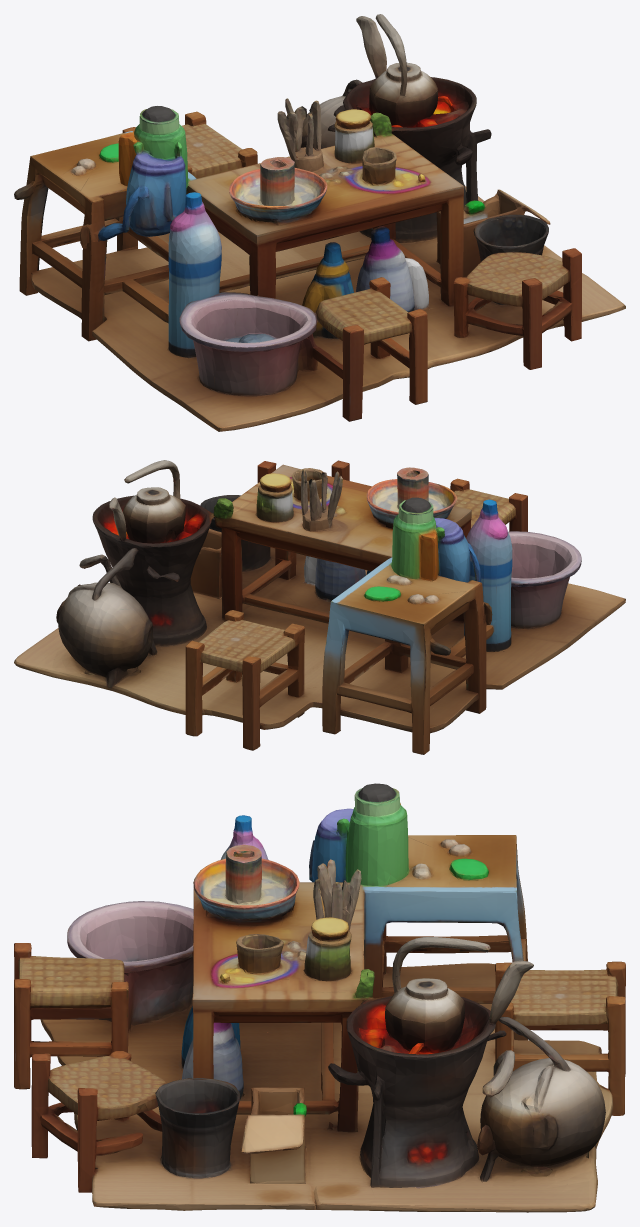
Rendered from tea_stall.glb.
3 renders of one model, top to bottom at view 1: azimuth 30°, elevation 25°; view 2: azimuth 150°, elevation 25°; view 3: azimuth 270°, elevation 25°, orthographic. The views are drawn at different scales.
Parts seen in each view (by area): view 1: world; view 2: world; view 3: world.
Part boxes in pixels (<box>): world: <box>14,14,625,431</box>; world: <box>14,460,625,754</box>; world: <box>14,783,625,1212</box>.
Size of the model in its own units: 0.961 by 0.4437 by 0.9992.
Materials: 1 (1 with a texture image).
